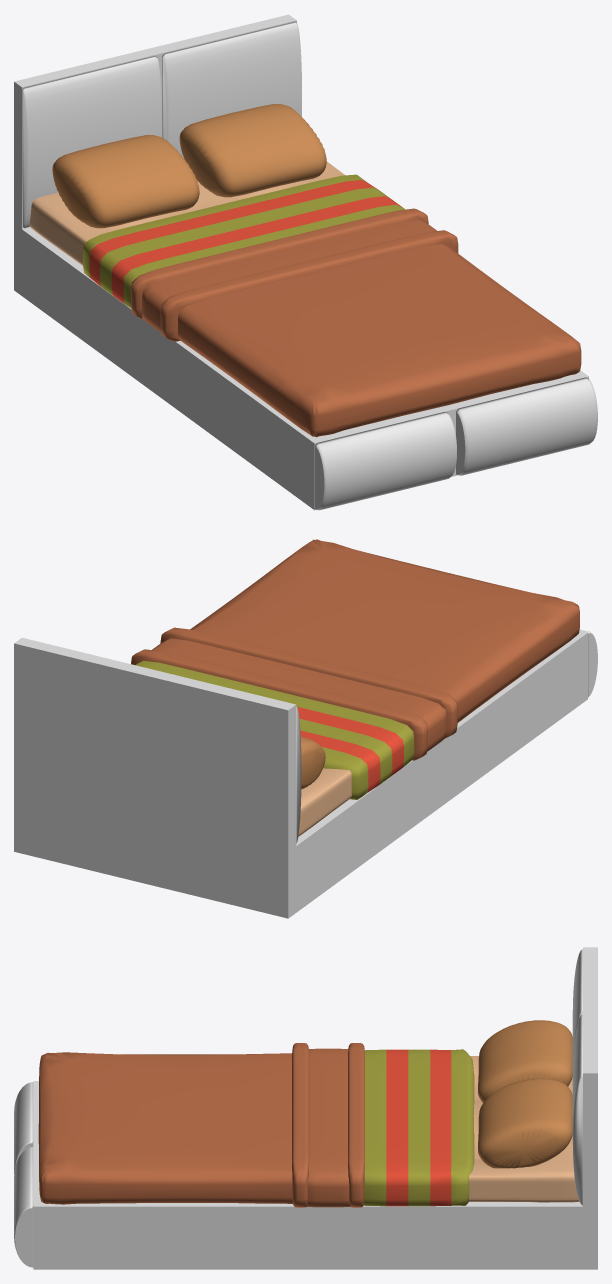
The model's file is bed_tier12.fbx.
3 views of the same model, one above another, from view 1: azimuth 30°, elevation 25°; view 2: azimuth 150°, elevation 25°; view 3: azimuth 270°, elevation 25° (orthographic). The views are drawn at different scales.
Parts seen in each view (by area): view 1: Cube.002, Cylinder, Cylinder.012, Cylinder.004, Cube.001; view 2: Cylinder, Cube.002, Cube.001, Cylinder.012; view 3: Cube.002, Cylinder, Cylinder.004, Cylinder.012, Cube.001.
Boxes of the visible parts, x1,y1,x2,y2 form: Cube.002: (83, 174, 581, 437); Cylinder: (14, 14, 597, 510); Cylinder.012: (52, 135, 199, 228); Cylinder.004: (179, 104, 326, 197); Cube.001: (29, 161, 344, 265); Cylinder: (14, 629, 597, 918); Cube.002: (131, 539, 579, 799); Cube.001: (298, 768, 351, 836); Cylinder.012: (300, 736, 325, 789); Cube.002: (38, 1043, 474, 1207); Cylinder: (14, 947, 597, 1269); Cylinder.004: (478, 1078, 572, 1168); Cylinder.012: (478, 1020, 572, 1102); Cube.001: (468, 1056, 579, 1202).
Bounding box in the file's own units: 202 × 137 × 370.
